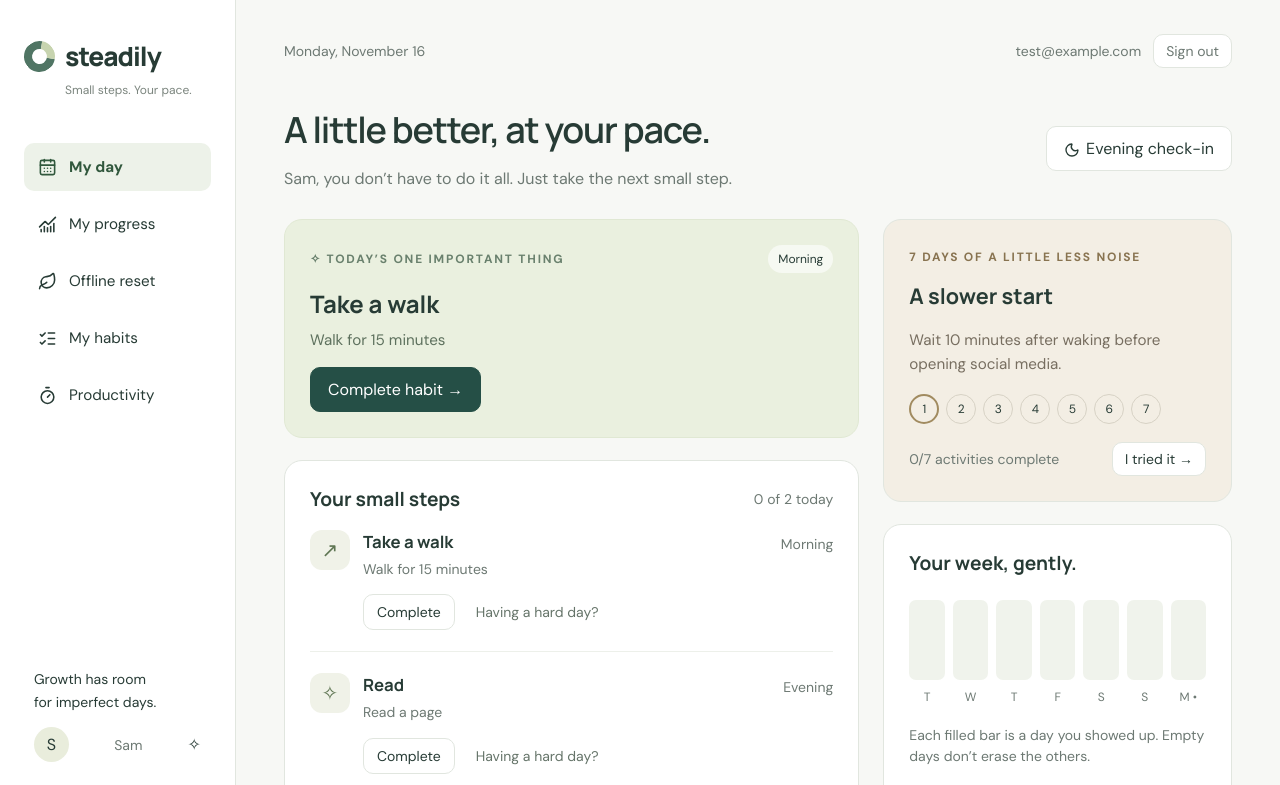
it: main app journeys › restores focus after closing a dialog with Escape
Check: the heading "Your small steps" is shown, box [310,486,460,512]
Click the button "Evening check-in" at {"x": 1139, "y": 148}, box [1046,126,1232,171]
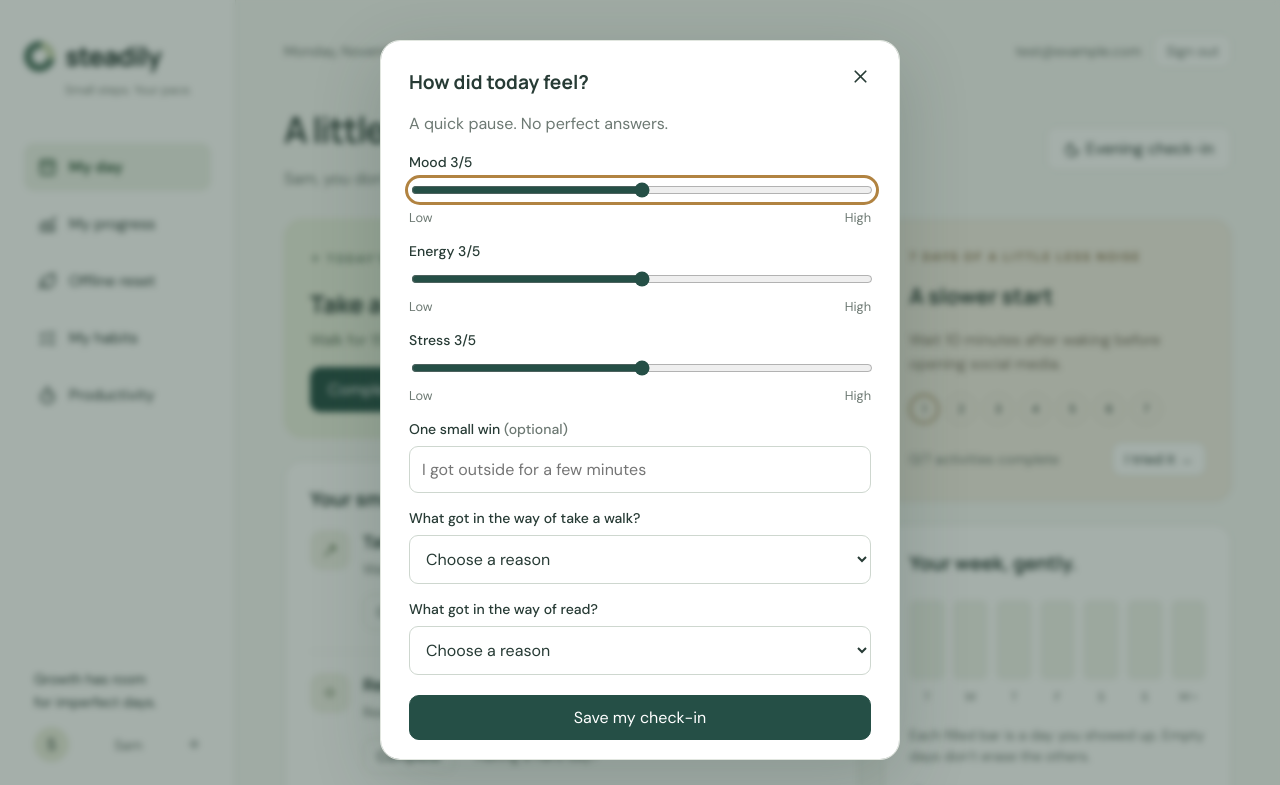
Press Escape
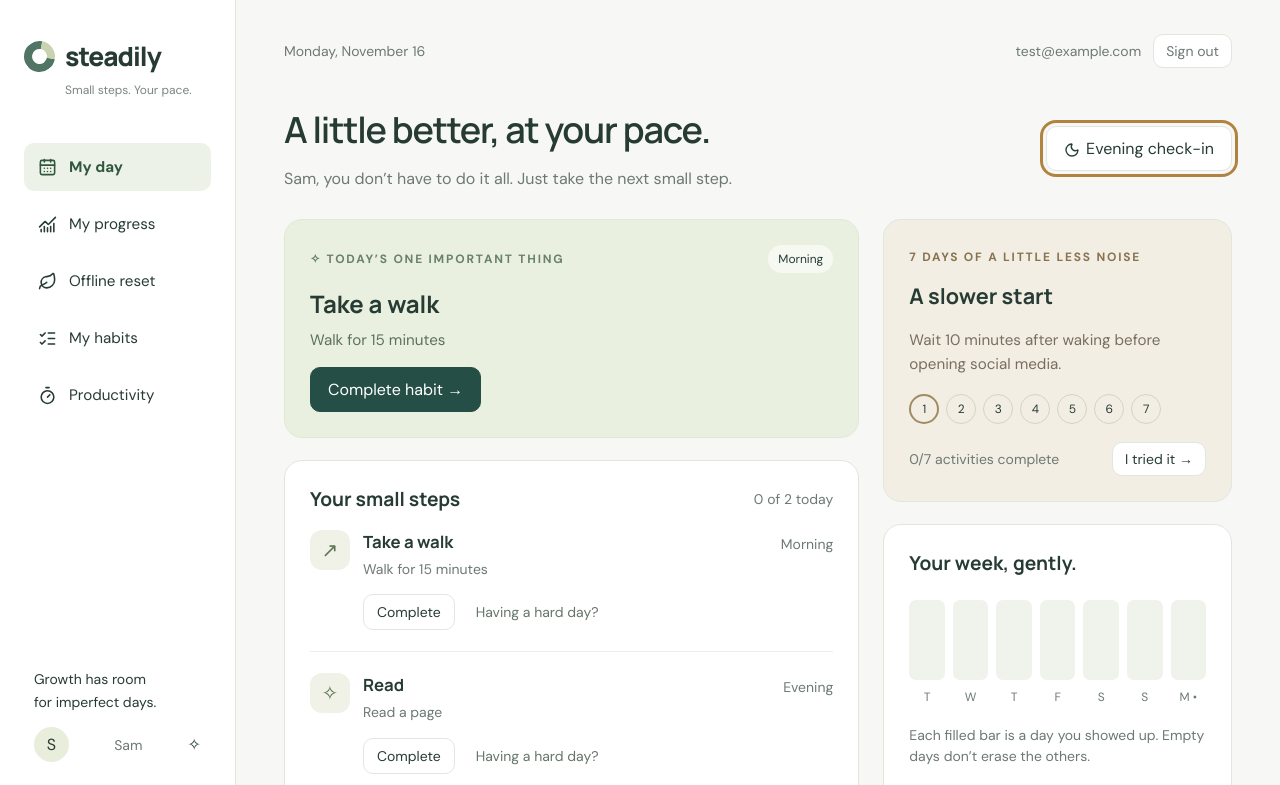
Check: the dialog is gone
